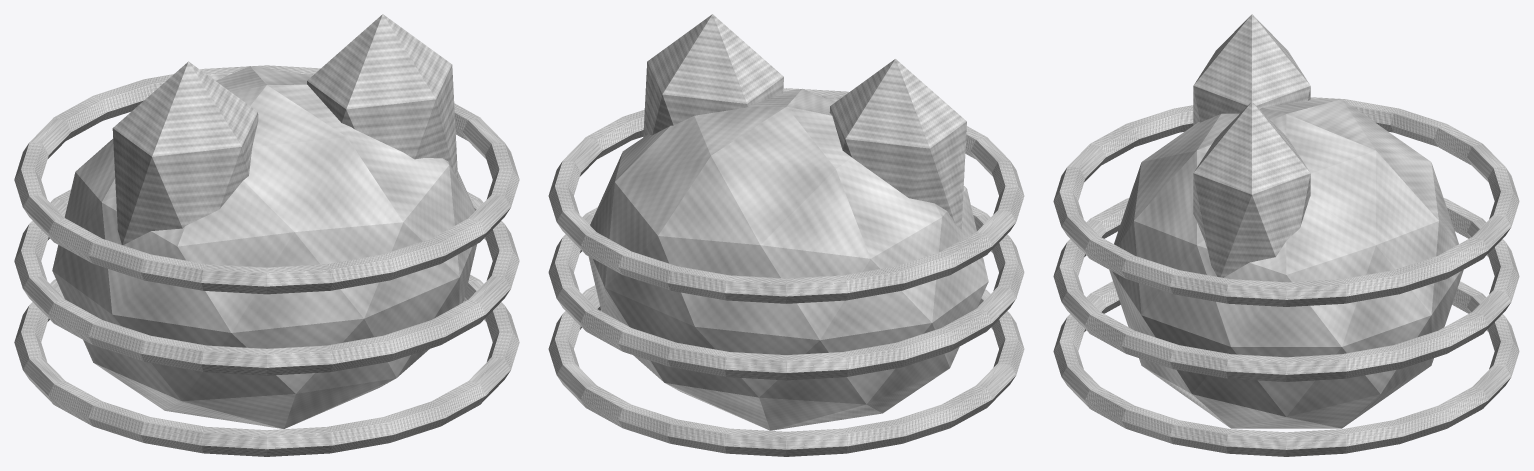
Rendered from item-alien-protein_variant_c.glb.
3 views of the same model, side by side, from view 1: azimuth 30°, elevation 25°; view 2: azimuth 150°, elevation 25°; view 3: azimuth 270°, elevation 25° (orthographic). The views are drawn at different scales.
Parts seen in each view (by area): view 1: Organic item.002, Variant collar.002, Organic detail.004, Variant collar.001, Variant collar, Organic detail.005; view 2: Organic item.002, Variant collar.002, Variant collar.001, Variant collar, Organic detail.004, Organic detail.005; view 3: Organic item.002, Variant collar.002, Variant collar.001, Variant collar, Organic detail.005, Organic detail.004.
Boxes of the visible parts, x1=… form: Organic item.002: x1=52, y1=66, x2=476, y2=428; Variant collar.002: x1=14, y1=65, x2=519, y2=294; Organic detail.004: x1=112, y1=61, x2=258, y2=245; Variant collar.001: x1=14, y1=189, x2=519, y2=375; Variant collar: x1=14, y1=274, x2=519, y2=456; Organic detail.005: x1=307, y1=14, x2=457, y2=178; Organic item.002: x1=588, y1=88, x2=988, y2=430; Variant collar.002: x1=548, y1=88, x2=1024, y2=303; Variant collar.001: x1=548, y1=205, x2=1024, y2=380; Variant collar: x1=548, y1=285, x2=1024, y2=456; Organic detail.004: x1=829, y1=59, x2=966, y2=229; Organic detail.005: x1=643, y1=14, x2=783, y2=137; Organic item.002: x1=1109, y1=99, x2=1463, y2=428; Variant collar.002: x1=1053, y1=97, x2=1519, y2=306; Variant collar.001: x1=1053, y1=198, x2=1519, y2=381; Variant collar: x1=1053, y1=281, x2=1519, y2=456; Organic detail.005: x1=1193, y1=102, x2=1310, y2=277; Organic detail.004: x1=1193, y1=14, x2=1310, y2=125.
Size of what is drawn, in the model's own units: 0.676 by 0.57 by 0.676.
3 materials, 3 textured.
